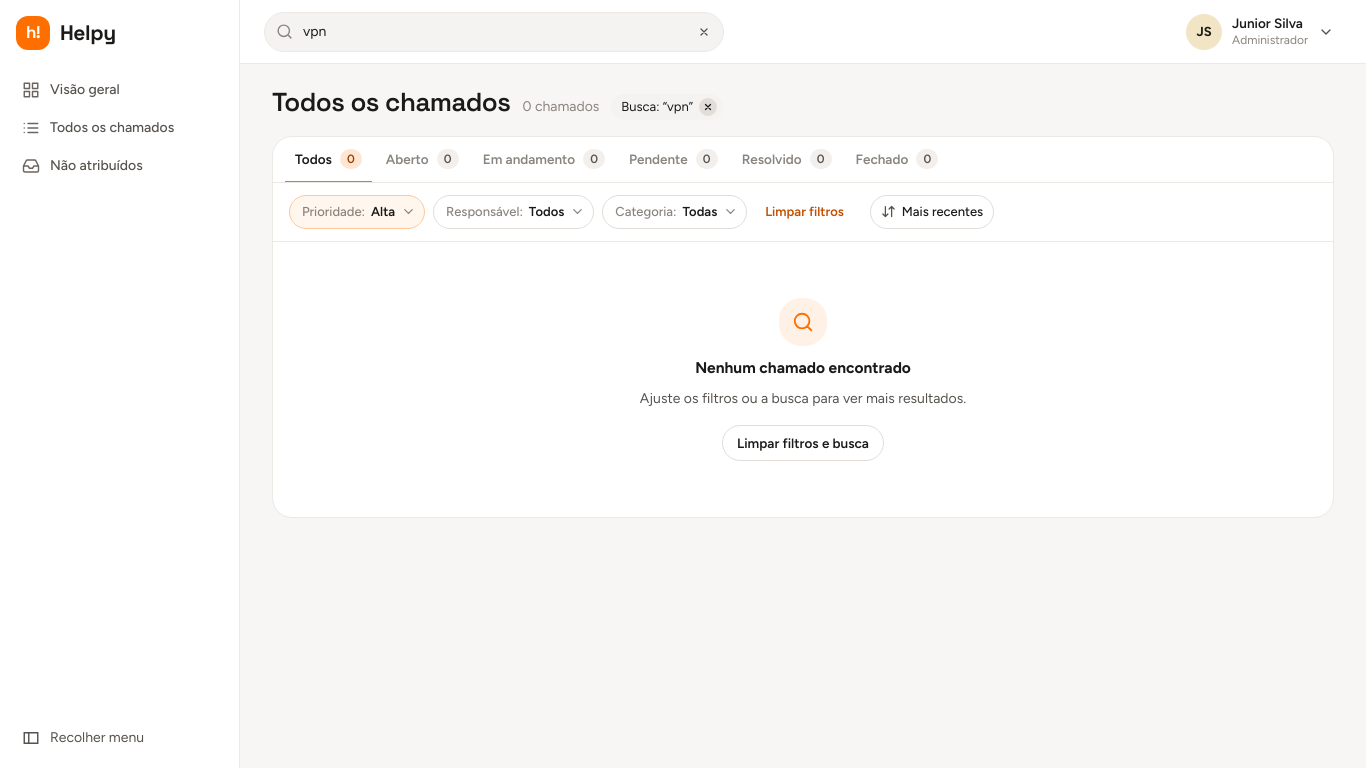
Test case: header search › shows the current q and clears it with the clear button
Expected: the search field named "Pesquisar chamados" holds "vpn", top-left (264, 12), bottom-right (724, 52)
Click the button named "Limpar pesquisa".
click(704, 32)  # box top-left (692, 20), bottom-right (716, 44)
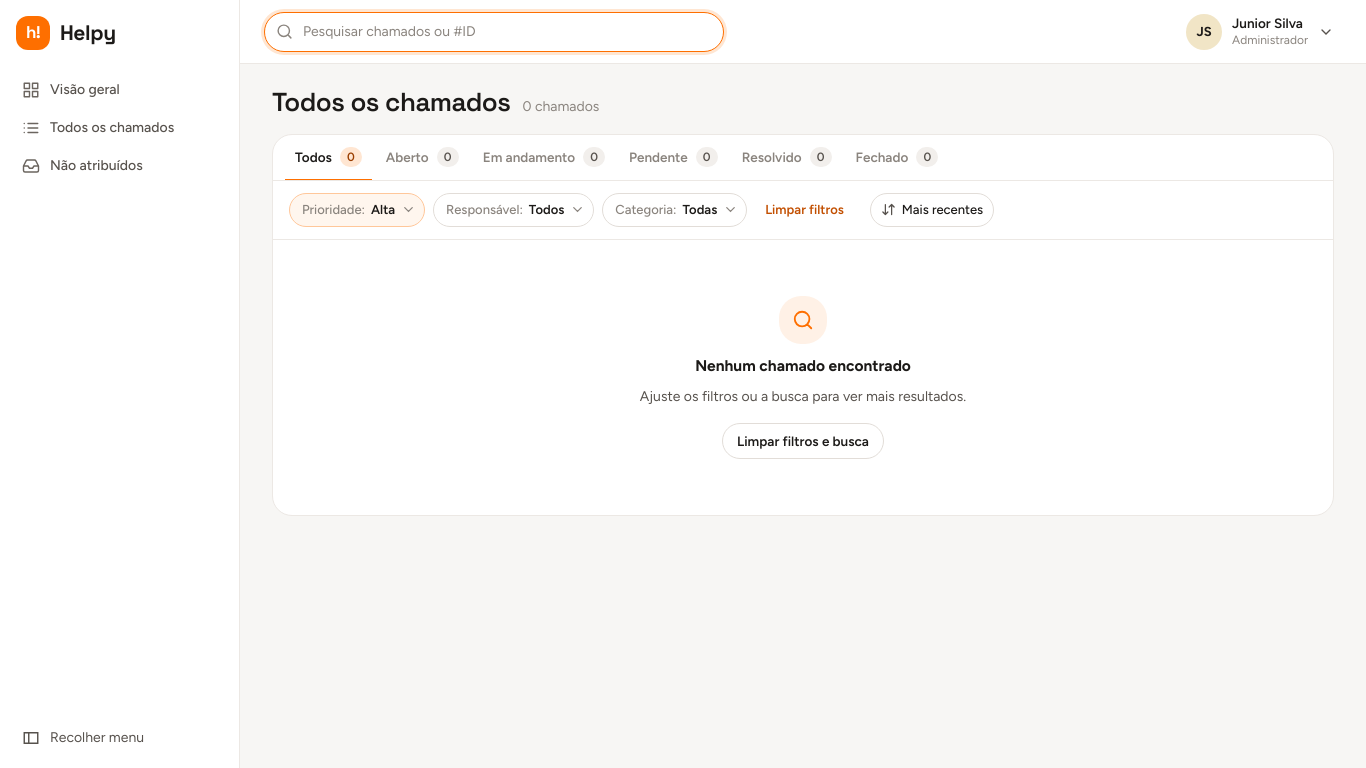
Now the search field labelled "Pesquisar chamados" is empty, box top-left (264, 12), bottom-right (724, 52)
